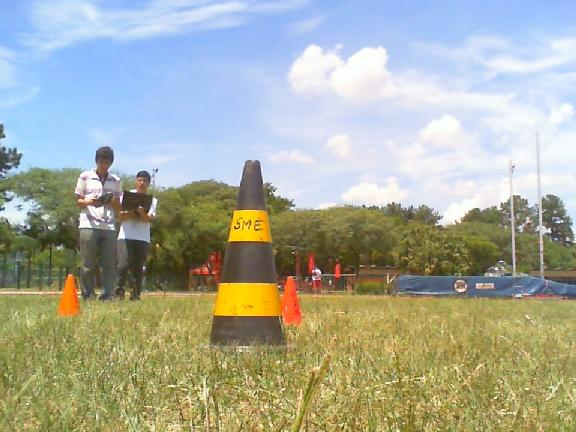0 cone: (208, 160, 287, 355), (280, 276, 303, 326), (57, 274, 83, 317)
